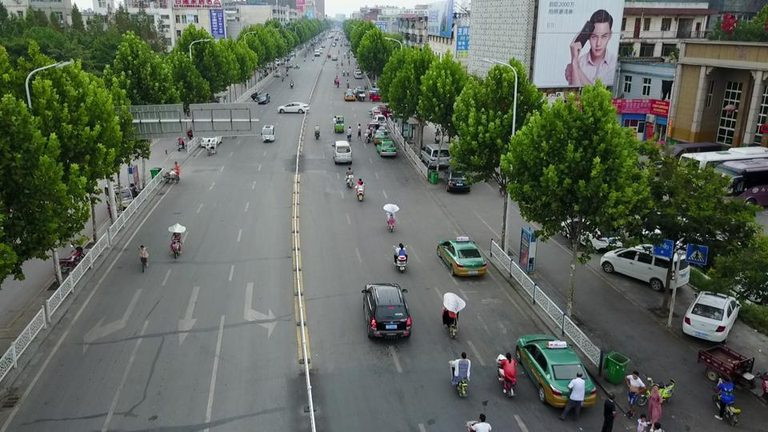awning-tricycle: (104, 182, 134, 215), (377, 104, 398, 121), (369, 90, 389, 103), (261, 125, 275, 143), (372, 114, 387, 130), (355, 88, 366, 102), (274, 68, 282, 78)
bicycle: (138, 250, 148, 273)
bus: (676, 146, 768, 191), (708, 158, 768, 211)
car: (515, 334, 597, 408), (600, 242, 691, 290), (682, 290, 742, 344), (361, 282, 412, 339), (558, 217, 622, 253), (436, 236, 486, 277), (443, 170, 471, 192), (201, 127, 222, 149), (376, 138, 397, 158), (277, 102, 310, 114), (373, 126, 390, 146), (368, 106, 395, 117), (250, 92, 271, 105), (366, 121, 382, 135), (343, 89, 355, 101), (354, 71, 363, 79), (354, 69, 362, 75)
motor: (712, 379, 742, 426), (634, 374, 675, 406), (56, 243, 91, 274), (496, 354, 516, 398), (448, 360, 468, 398), (442, 306, 458, 339), (107, 206, 123, 228), (128, 185, 142, 203), (171, 238, 182, 258), (356, 182, 366, 202), (344, 170, 354, 188), (386, 213, 395, 233), (207, 144, 217, 156), (346, 130, 353, 142), (364, 133, 372, 143), (435, 134, 442, 145), (314, 129, 321, 140), (346, 82, 350, 89), (290, 82, 294, 89), (342, 71, 346, 76), (347, 70, 350, 76), (286, 70, 289, 76), (281, 76, 284, 81)
pedestrian: (558, 370, 586, 422), (625, 370, 646, 418), (645, 382, 662, 432), (599, 391, 617, 432), (636, 414, 648, 432), (357, 123, 362, 141), (254, 90, 258, 99), (337, 78, 340, 87)
people: (714, 377, 734, 421), (495, 351, 517, 390), (450, 351, 471, 387), (442, 303, 460, 329), (466, 414, 491, 432), (394, 242, 409, 266), (170, 228, 182, 255), (394, 245, 408, 267), (138, 245, 149, 266), (385, 209, 396, 229), (356, 178, 365, 196), (173, 161, 181, 180), (386, 214, 395, 230), (346, 167, 354, 184), (206, 139, 214, 153), (357, 181, 365, 194), (346, 126, 353, 140), (335, 117, 342, 128), (434, 128, 441, 139), (366, 126, 371, 140), (314, 125, 320, 136), (333, 115, 339, 125), (205, 143, 211, 153), (289, 79, 295, 86), (345, 80, 350, 85), (334, 75, 339, 80), (346, 70, 350, 74), (342, 70, 346, 74), (282, 74, 285, 78), (286, 70, 289, 74)
tricycle: (698, 342, 768, 402), (392, 246, 407, 274), (164, 167, 179, 184), (334, 115, 345, 133), (187, 125, 200, 140), (334, 78, 339, 85)
van: (647, 142, 722, 175), (420, 143, 450, 170), (332, 141, 352, 164)
